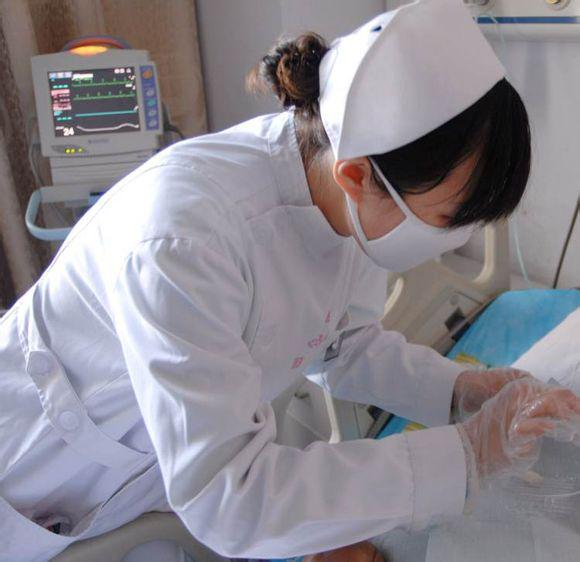OK: (352, 138, 492, 279)
